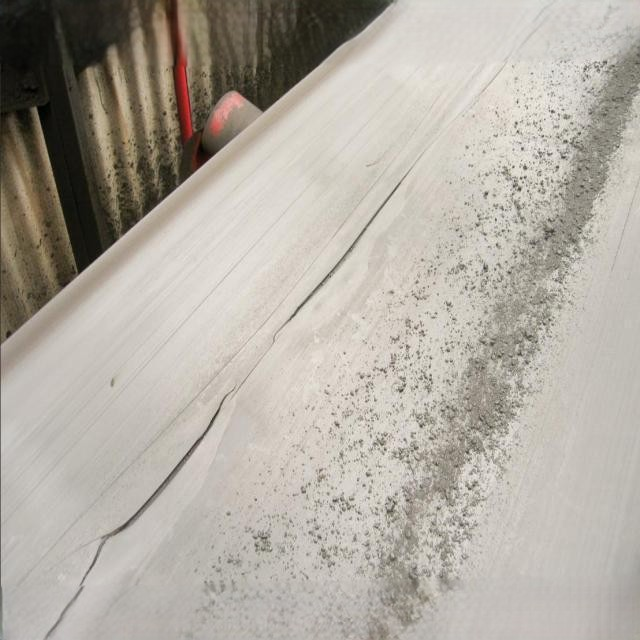Tear: (68, 381, 238, 604), (265, 158, 422, 350)
